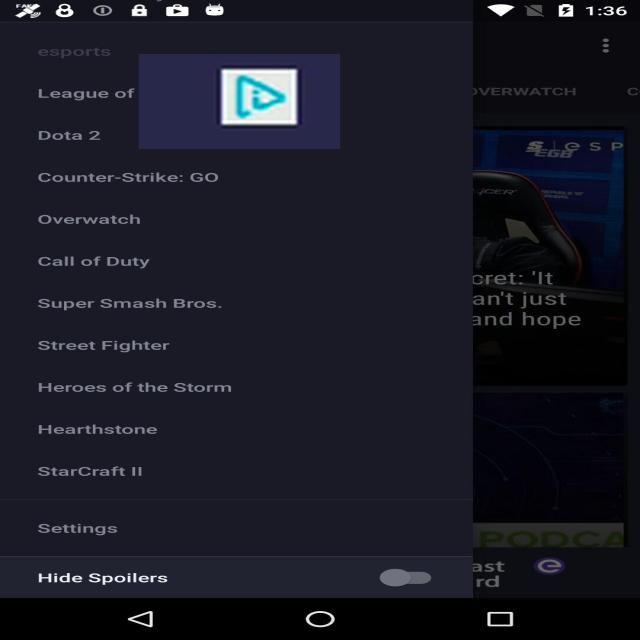sneaking: (139, 54, 340, 149)
